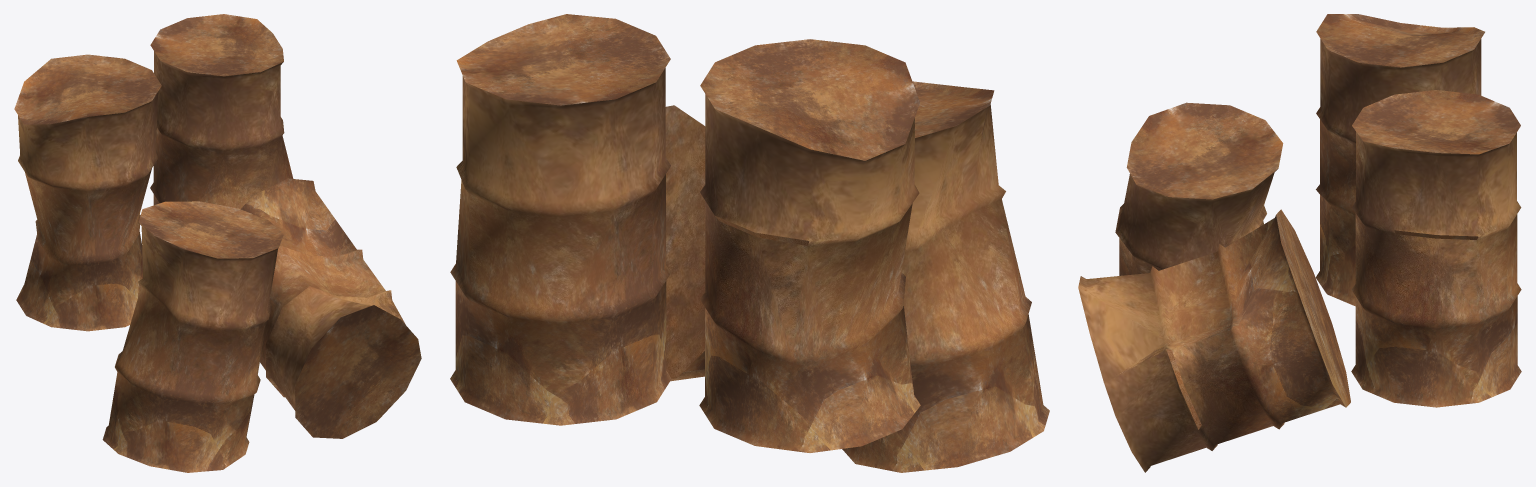
File: oil_barrel.fbx
3 renders of one model, left to right at view 1: azimuth 30°, elevation 25°; view 2: azimuth 150°, elevation 25°; view 3: azimuth 270°, elevation 25°, orthographic. The views are drawn at different scales.
Visible parts, largest first — view 1: Circle_003, Circle_002, Circle_004, Circle_005; view 2: Circle_002, Circle_005, Circle_003, Circle_004; view 3: Circle_005, Circle_004, Circle_003, Circle_002.
Part boxes in pixels (x1=…): Circle_003: x1=102, y1=201, x2=283, y2=472; Circle_002: x1=14, y1=54, x2=161, y2=331; Circle_004: x1=241, y1=178, x2=421, y2=438; Circle_005: x1=150, y1=14, x2=293, y2=209; Circle_002: x1=699, y1=39, x2=920, y2=452; Circle_005: x1=450, y1=14, x2=671, y2=425; Circle_003: x1=842, y1=81, x2=1049, y2=472; Circle_004: x1=665, y1=105, x2=705, y2=381; Circle_005: x1=1351, y1=90, x2=1521, y2=407; Circle_004: x1=1078, y1=209, x2=1350, y2=472; Circle_003: x1=1115, y1=102, x2=1283, y2=275; Circle_002: x1=1315, y1=14, x2=1484, y2=306.
Bounding box in the file's own units: 14 × 14.77 × 16.75.
Materials: 1 (1 with a texture image).
